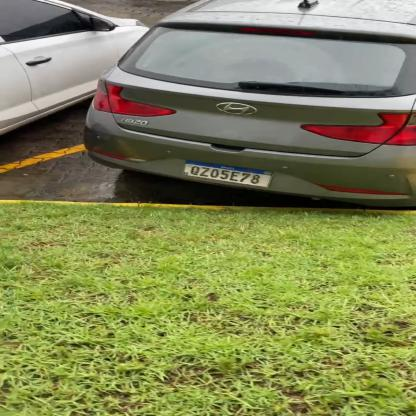Plate: (180, 157, 276, 190)
